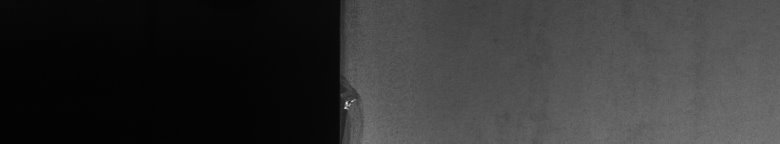hb: (348, 78, 368, 136)
